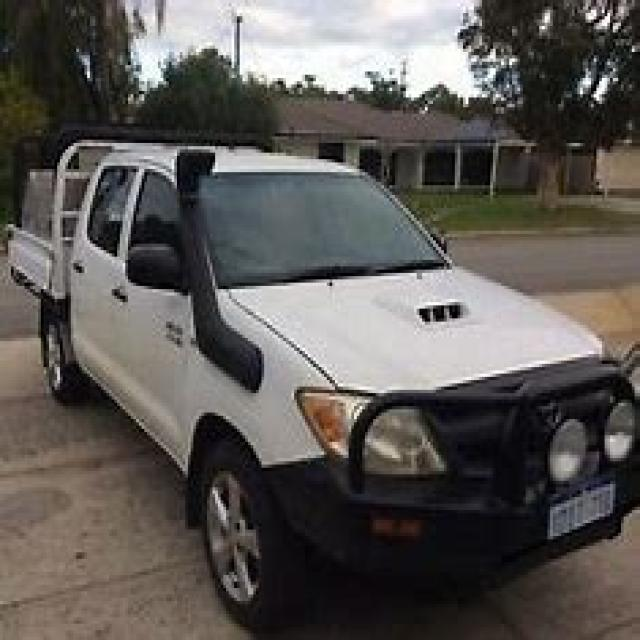light_vehicle: (5, 120, 638, 611)
